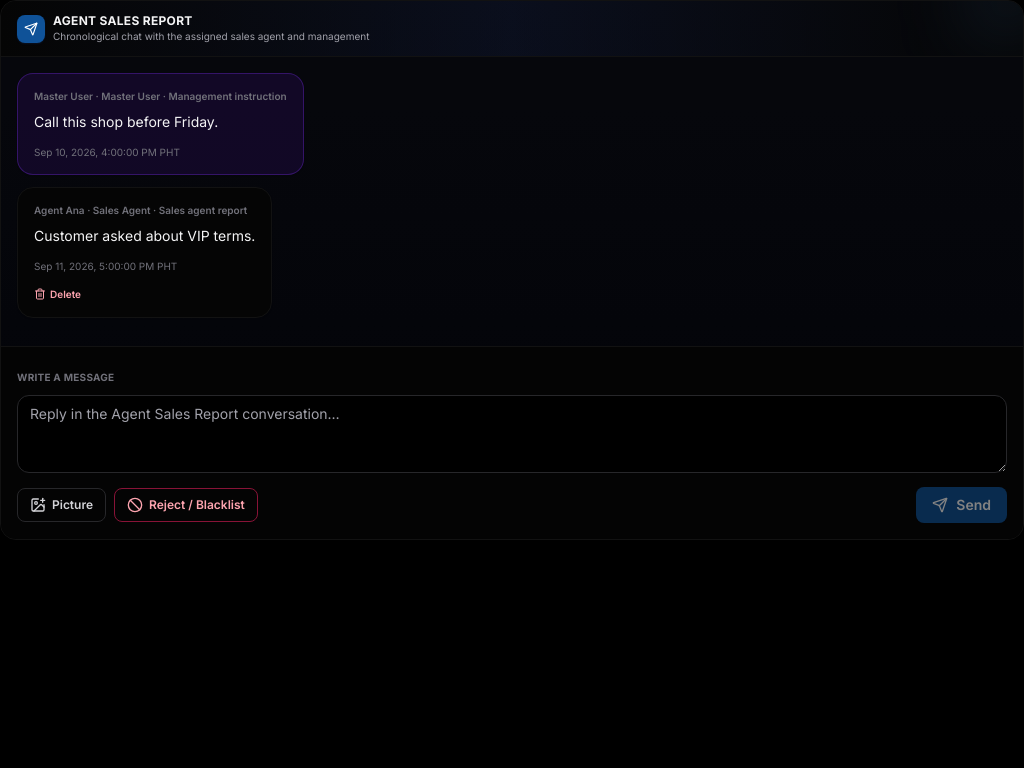
Test: CustomerSalesReportChat › allows only a Master User to delete a persisted report with a reason
Expected: the text "Customer asked about VIP terms." is shown, top-left (34, 224), bottom-right (255, 248)
Step 1. Click the button "Delete" → (58, 294), box top-left (34, 284), bottom-right (81, 304)
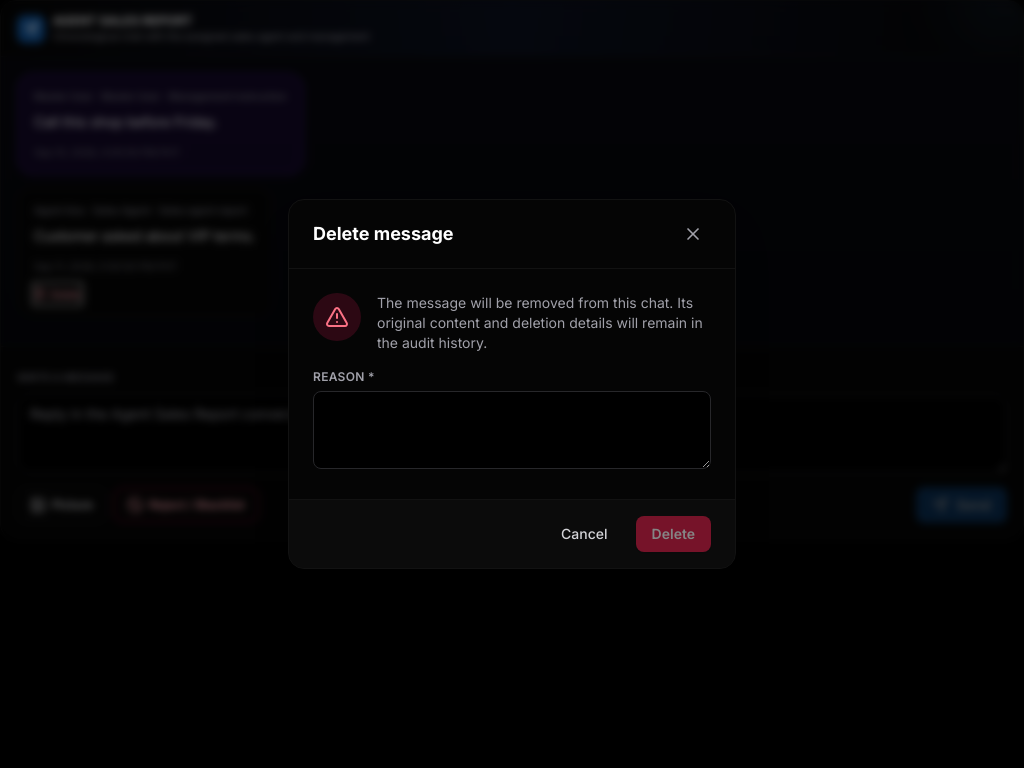
Step 2. Type "Sent for the wrong customer" into the text box labelled "Reason *" → (512, 430), box top-left (313, 391), bottom-right (711, 469)
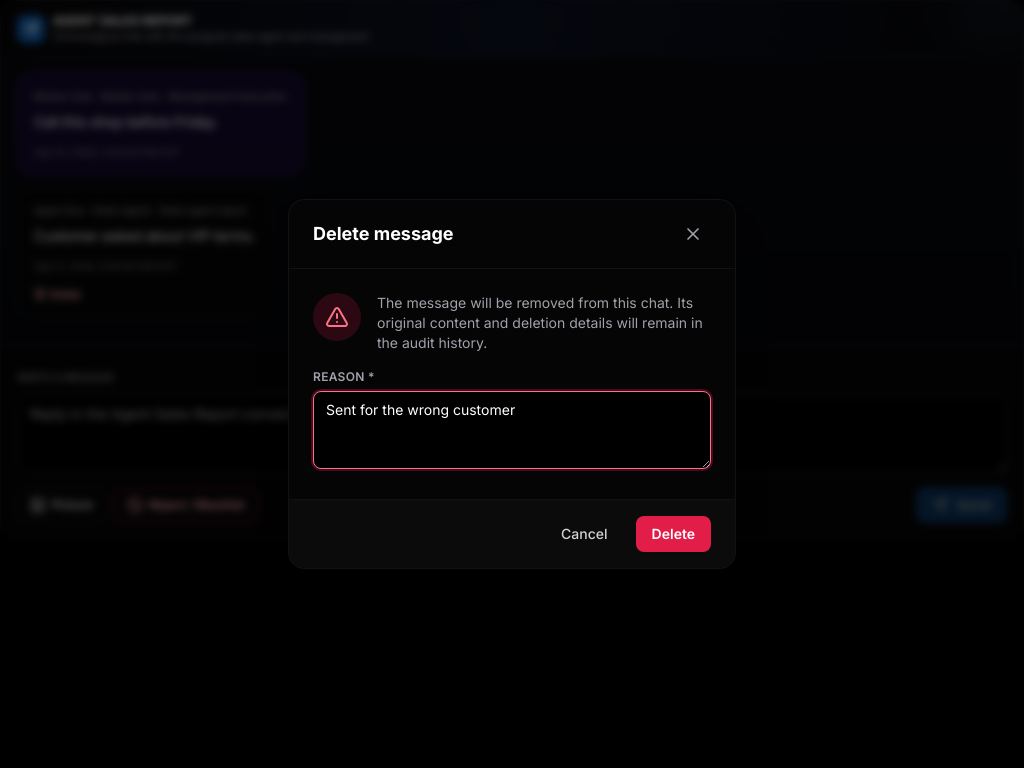
Step 3. Click the button "Delete" → (673, 534), box top-left (636, 516), bottom-right (711, 552)
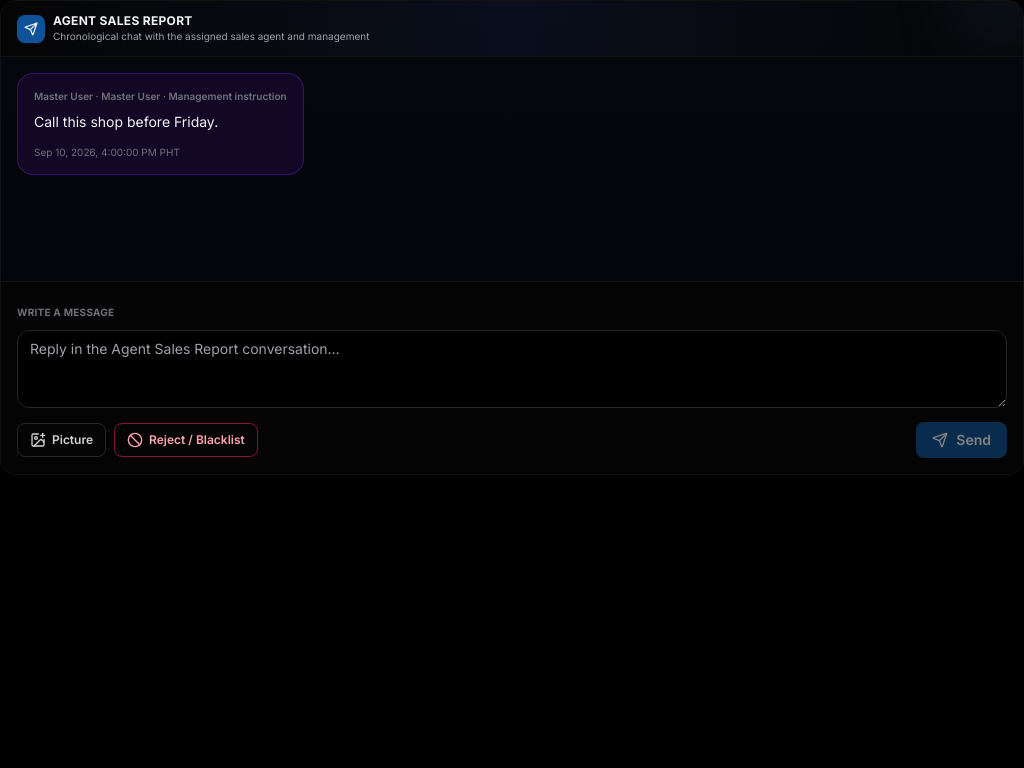
Now the text "Customer asked about VIP terms." is gone
